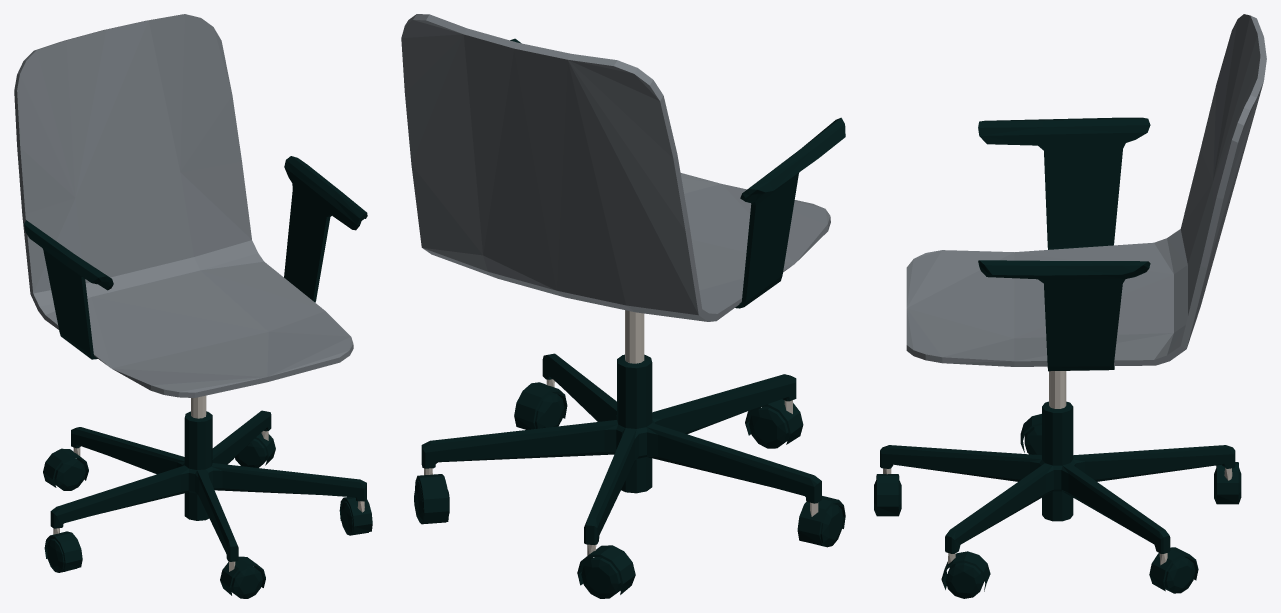
Rendered from Chair.glb.
3 renders of one model, left to right at view 1: azimuth 30°, elevation 25°; view 2: azimuth 150°, elevation 25°; view 3: azimuth 270°, elevation 25°, orthographic. The views are drawn at different scales.
Parts seen in each view (by area): view 1: Node; view 2: Node; view 3: Node.
Boxes of the visible parts, <box> form: Node: <box>14,14,372,598</box>; Node: <box>401,14,845,598</box>; Node: <box>874,14,1266,598</box>.
Bounding box in the file's own units: 28.04 × 39.61 × 29.57.
